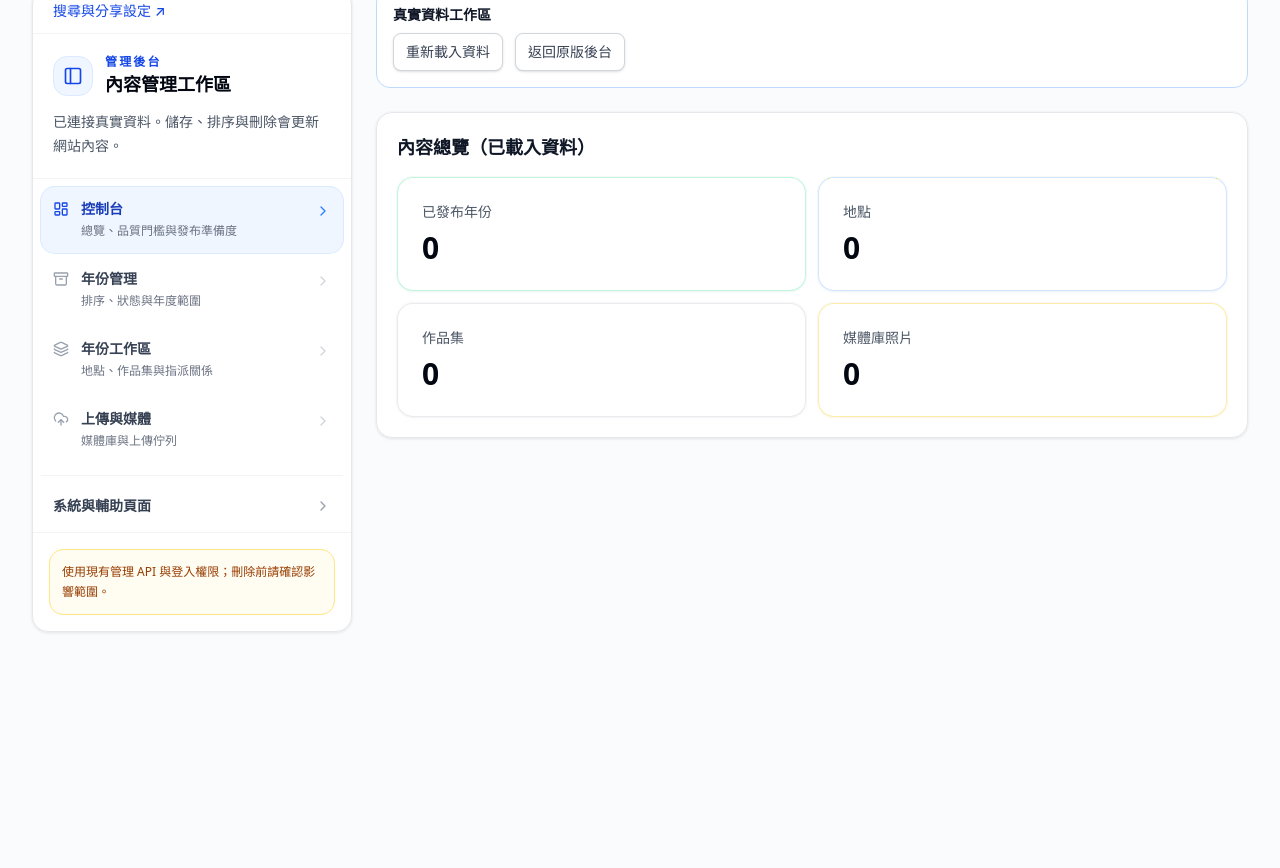
a failed media request does not lock year management
The image size is (1280, 868).
Expected: the text "真實資料工作區" is shown, [393,5,491,24]
Click the button "年份工作區 地點、作品集與指派關係" at (192, 360), box [41,327,343,393]
(page scrolled)
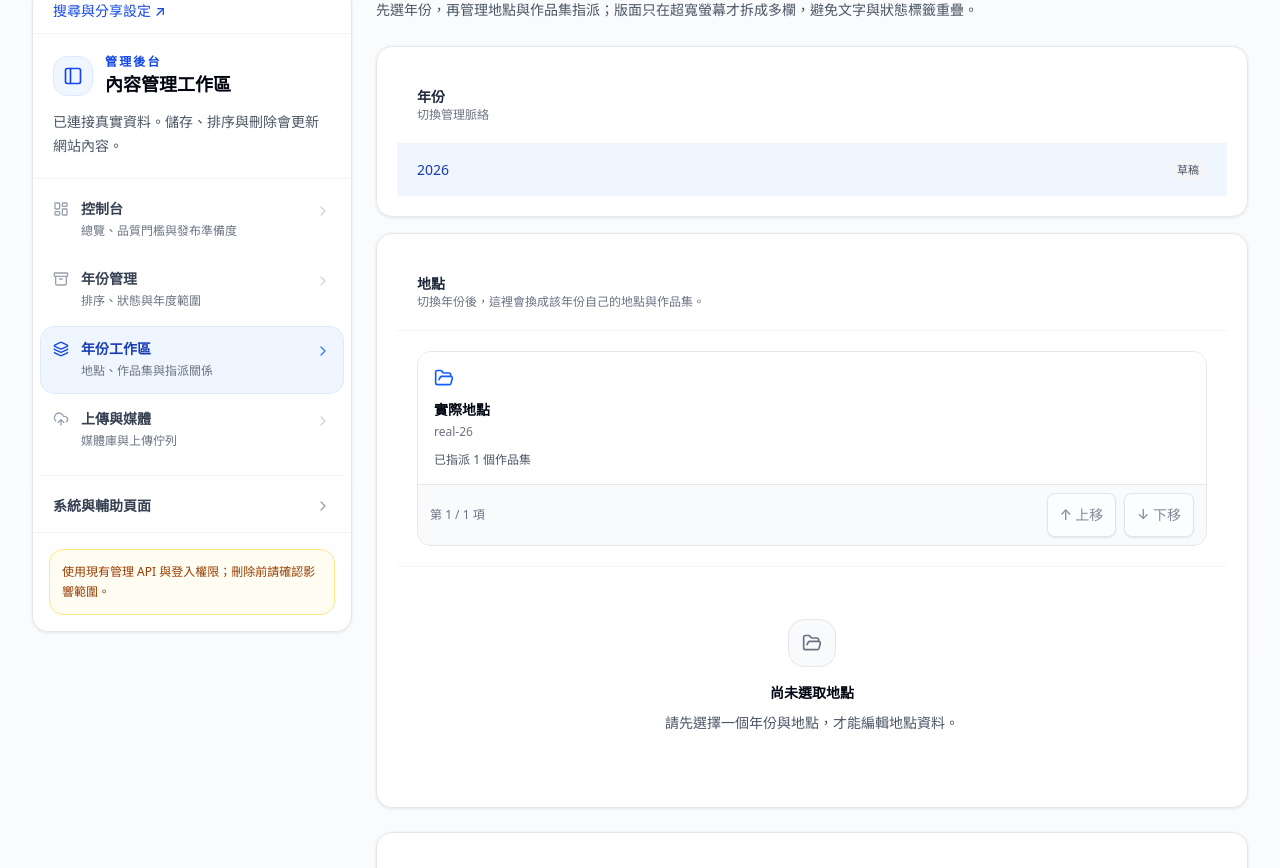
Click the button "實際地點 real-26 已指派 1 個作品集" at (462, 410), box [418,352,1206,484]
(page scrolled)
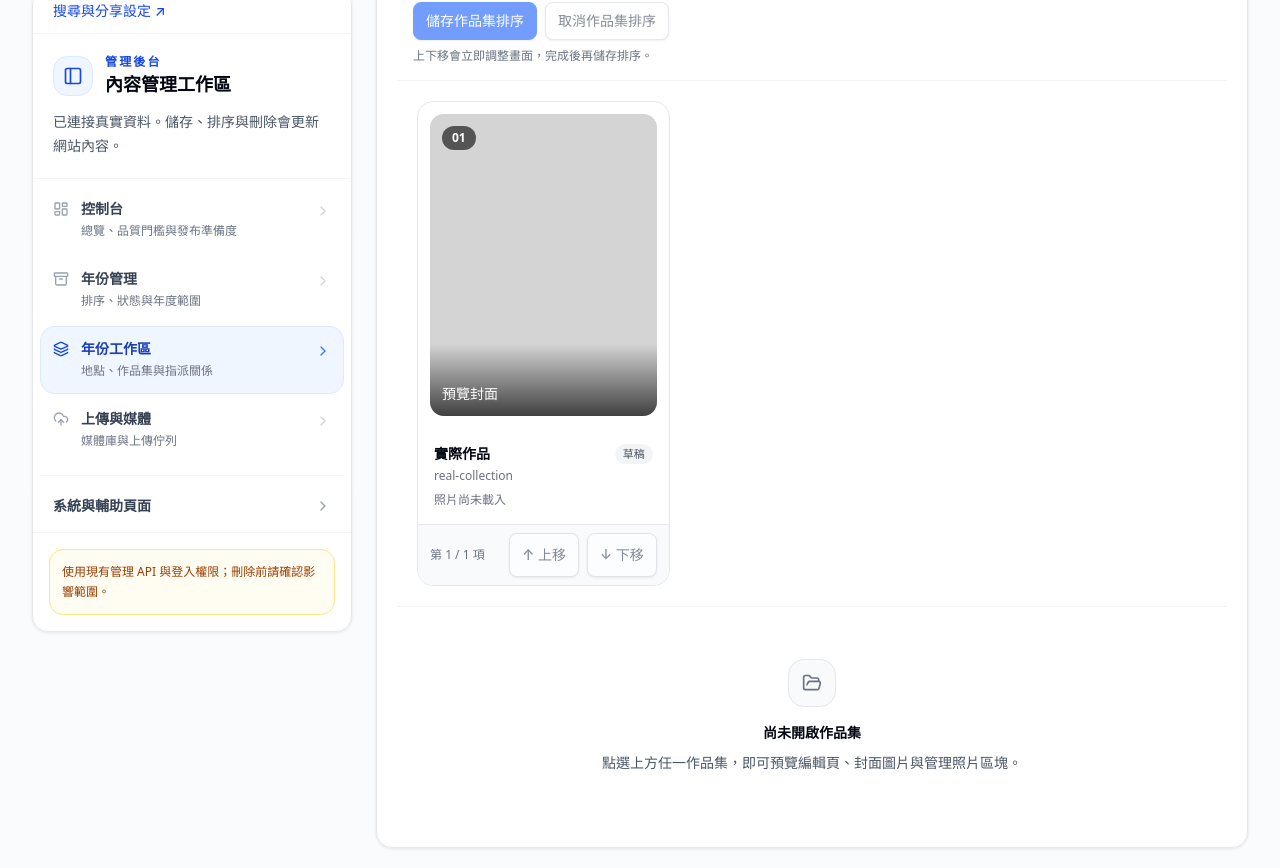
Click the button "實際作品 草稿 real-collection 照片尚未載入" at (543, 476), box [418,428,669,524]
(page scrolled)
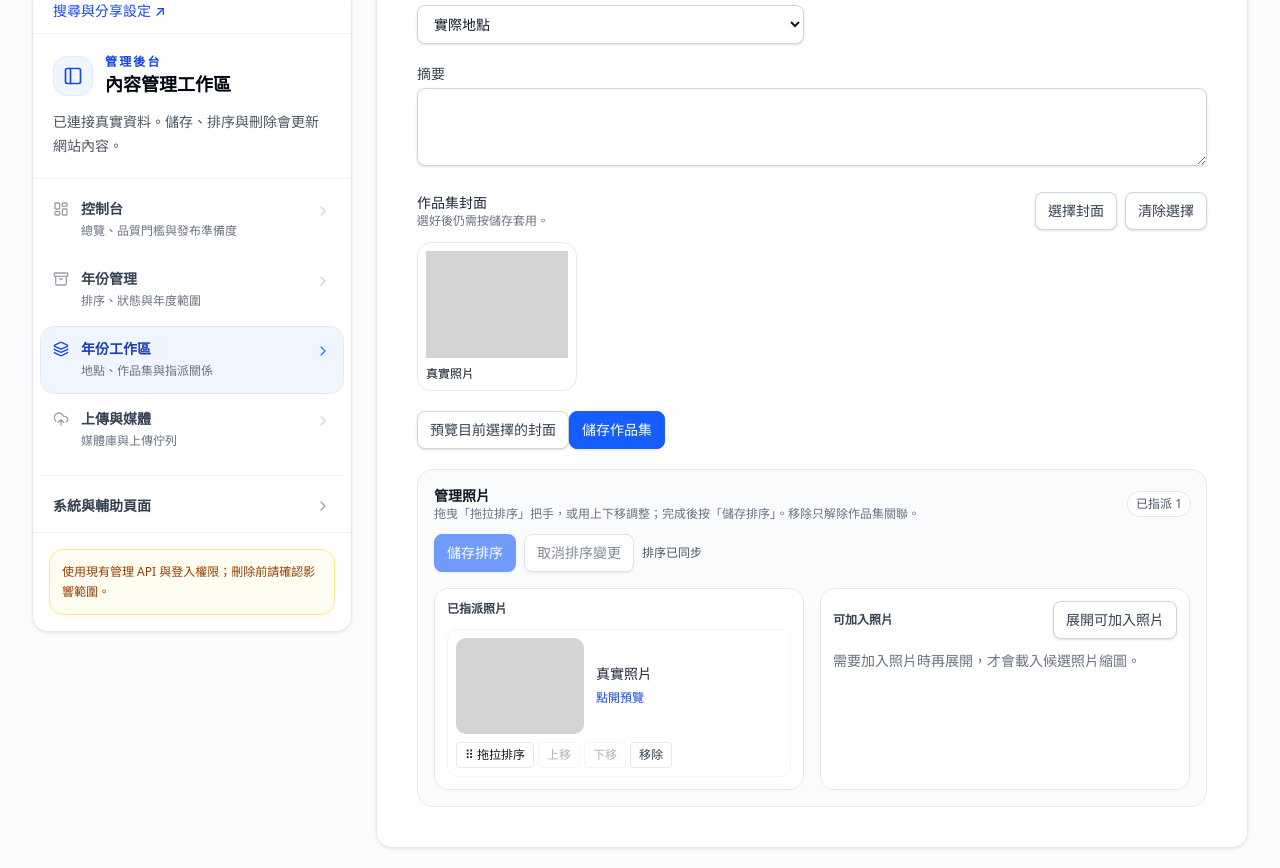
Click the button "展開可加入照片" at (1115, 620), box [1053,601,1177,639]
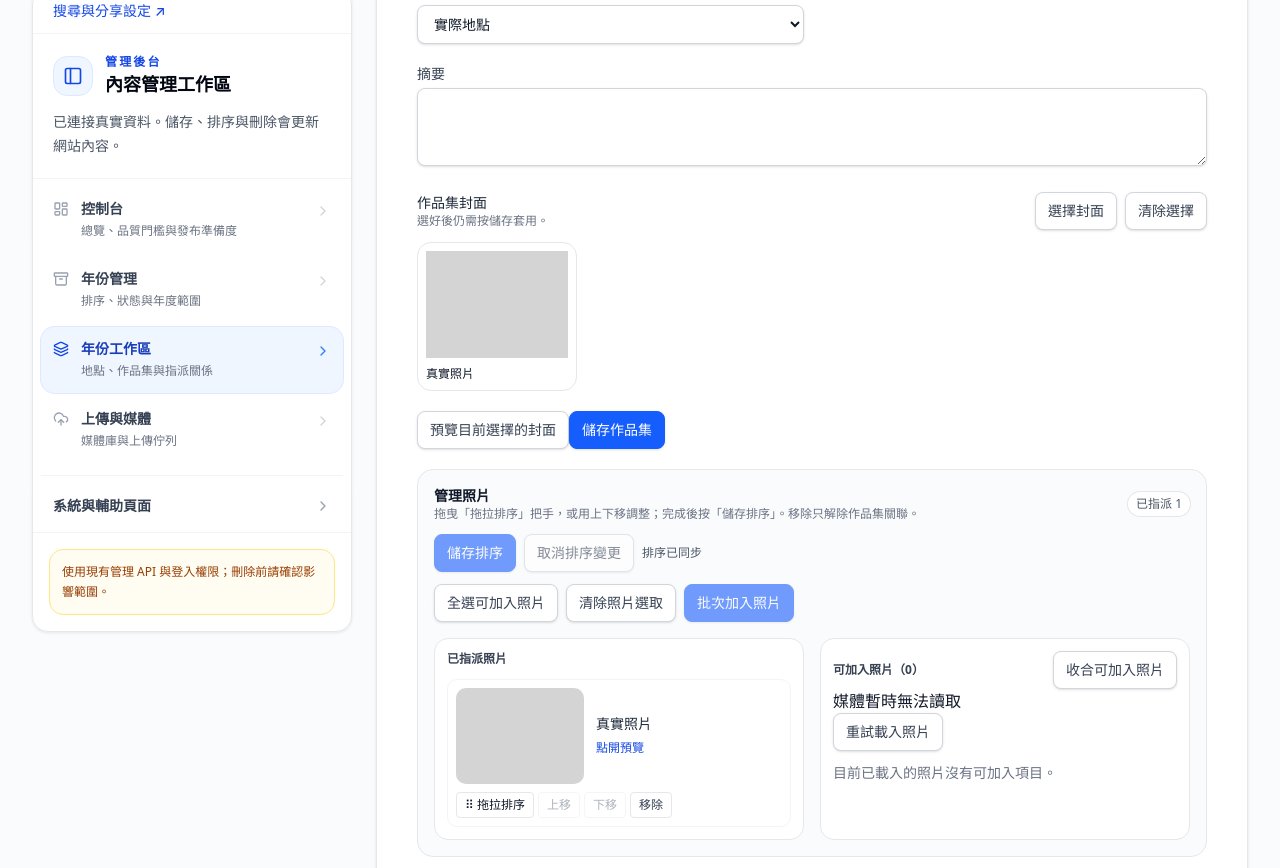
Now the message "媒體暫時無法讀取" is shown, box [833,690,961,712]
Click the button "年份管理 排序、狀態與年度範圍" at (192, 290), box [41,257,343,323]
(page scrolled)
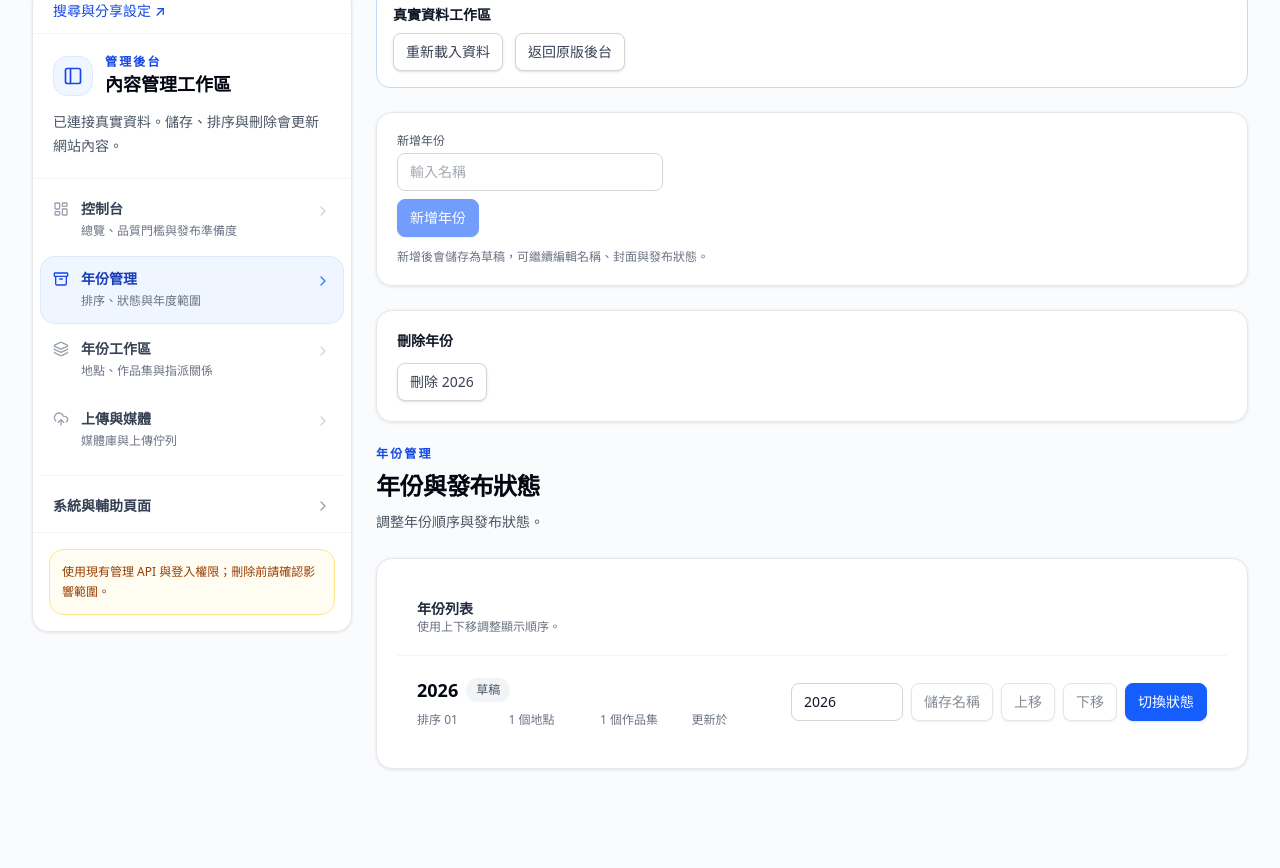
Now the field named "年份 2026 名稱" is enabled, box [791,683,903,721]
